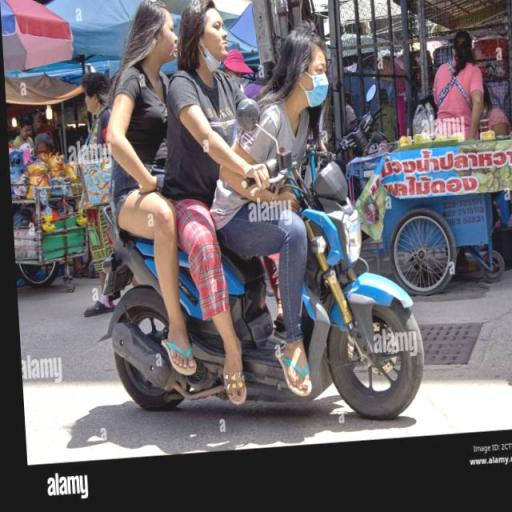tripple riding: (103, 0, 355, 414)
